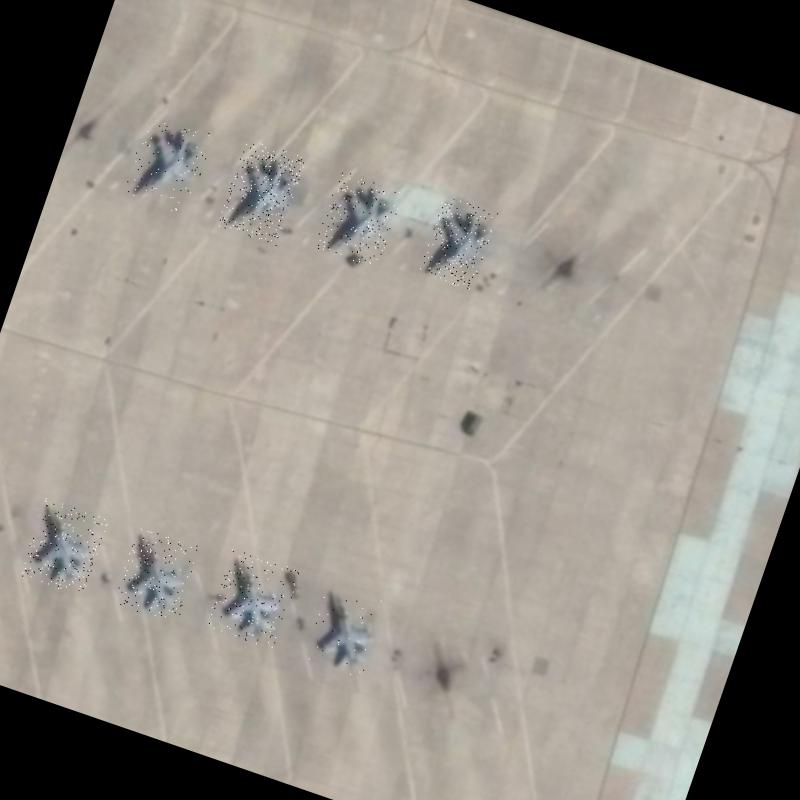A16: (206, 546, 302, 651), (216, 138, 307, 246), (121, 112, 214, 216), (112, 524, 205, 626), (313, 170, 404, 272), (19, 498, 109, 597), (302, 582, 390, 680), (418, 195, 499, 292)
